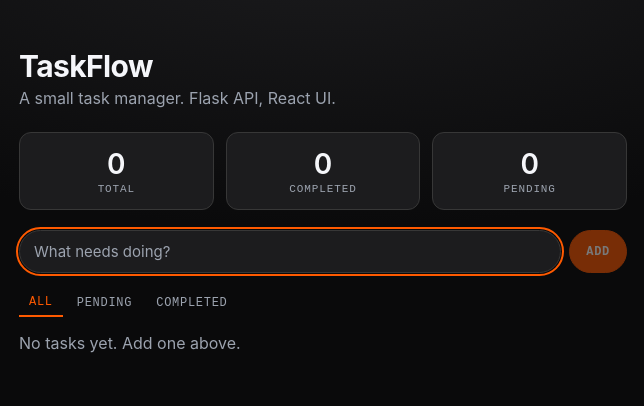
it: App › creates a task from the form, clears the input and refreshes
The width and height of the screenshot is (644, 406).
Check: the text "No tasks yet. Add one above." is shown, box [19,333,241,353]
Type "New task" into the field named "New task title" at (290, 252), box [19,230,561,273]
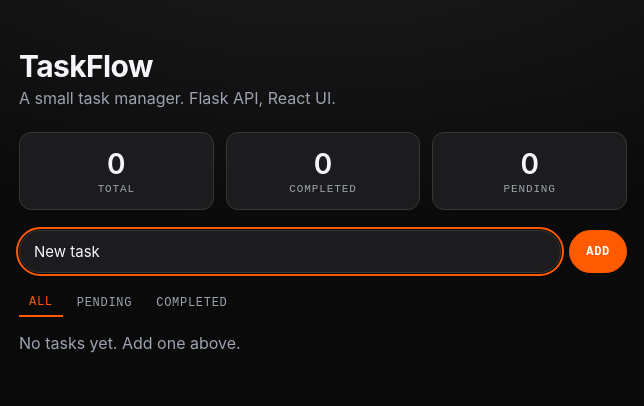
Click the button "Add" at (598, 252), box [569,230,627,273]
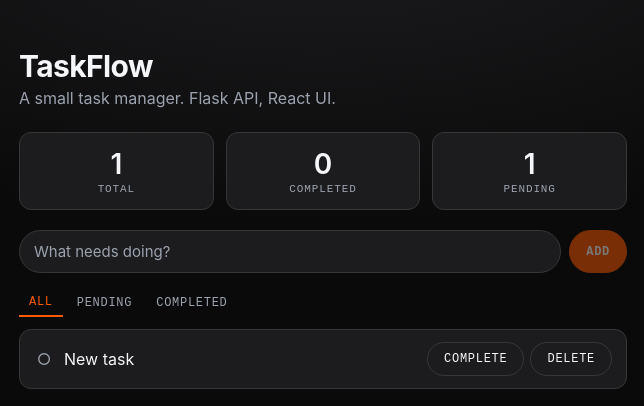
Check: the text "New task" is shown, box [64,349,134,369]
Check: the field named "New task title" is empty, box [19,230,561,273]
